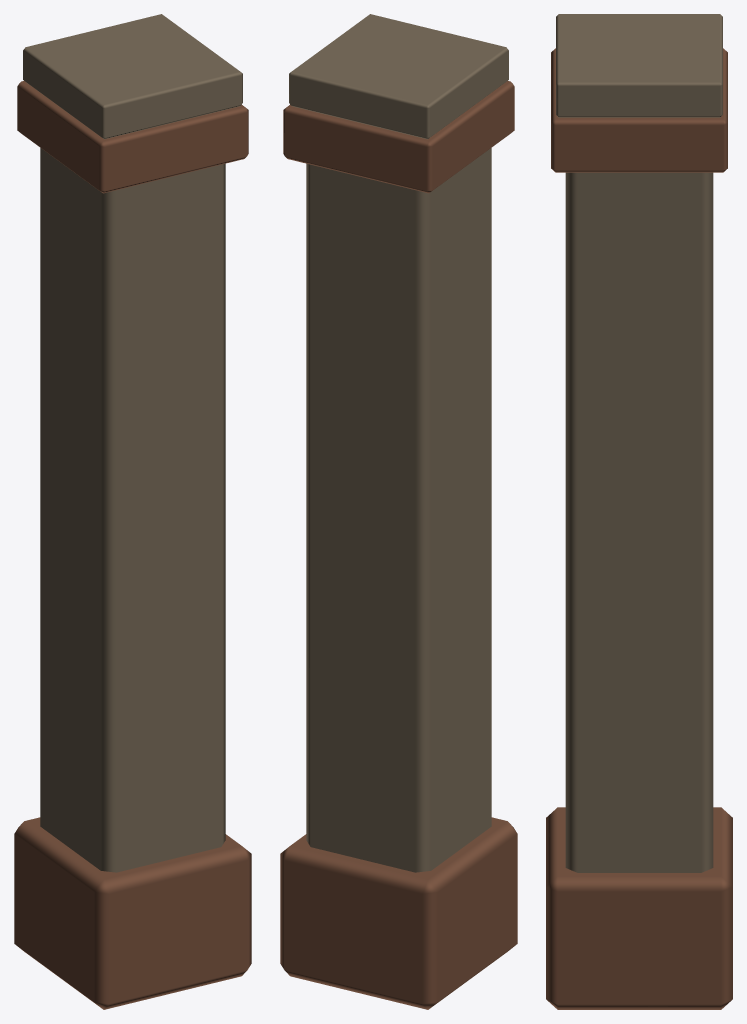
Rendered from ghost-town-post-x.055e7f4a.glb.
3 renders of one model, left to right at view 1: azimuth 30°, elevation 25°; view 2: azimuth 150°, elevation 25°; view 3: azimuth 270°, elevation 25°, orthographic. The views are drawn at different scales.
Visible parts, largest first — view 1: body; view 2: body; view 3: body.
Part boxes in pixels (<box>): body: <box>14,14,251,1009</box>; body: <box>280,14,517,1009</box>; body: <box>546,14,732,1009</box>.
Bounding box in the file's own units: 0.38 × 2.08 × 0.38.
